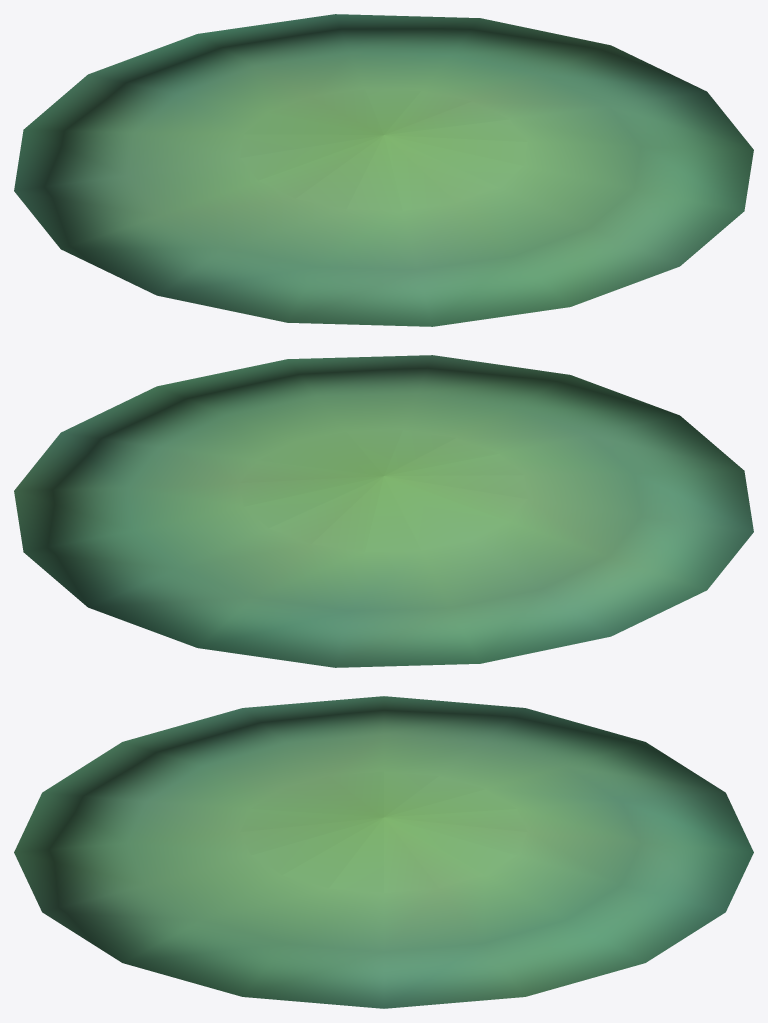
Rendered from space-galaxies-galaxy_v19.glb.
3 views of the same model, one above another, from view 1: azimuth 30°, elevation 25°; view 2: azimuth 150°, elevation 25°; view 3: azimuth 270°, elevation 25° (orthographic).
Visible parts, largest first — view 1: Galaxy_v19; view 2: Galaxy_v19; view 3: Galaxy_v19.
Boxes of the visible parts, <box> form: Galaxy_v19: <box>14,14,753,326</box>; Galaxy_v19: <box>14,355,753,667</box>; Galaxy_v19: <box>14,696,753,1008</box>.
Size of the model in its own units: 0.5 by 0.0436 by 0.5.
